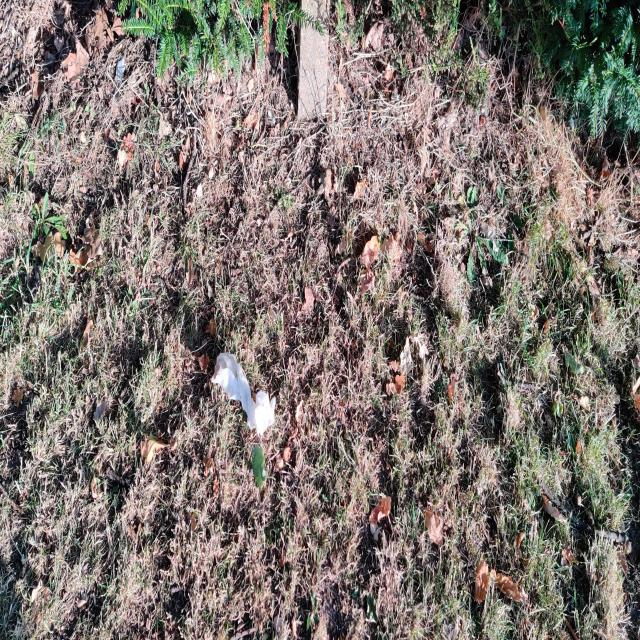litter: (195, 311, 283, 452)
